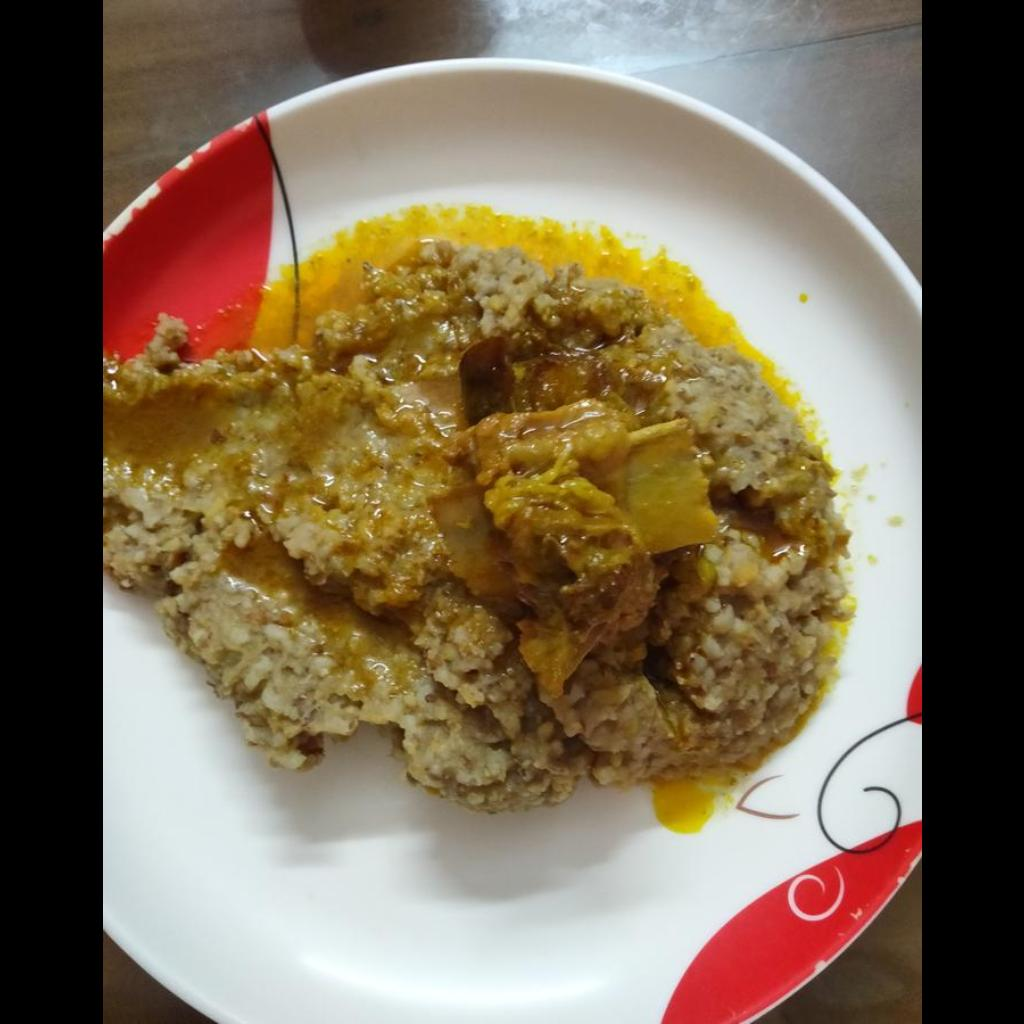biriyani: (102, 242, 849, 808)
